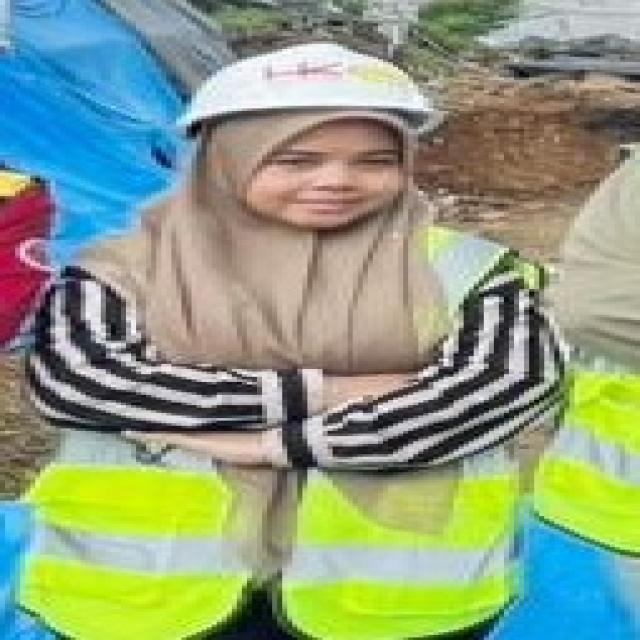safetyhelmet: (178, 38, 455, 191)
